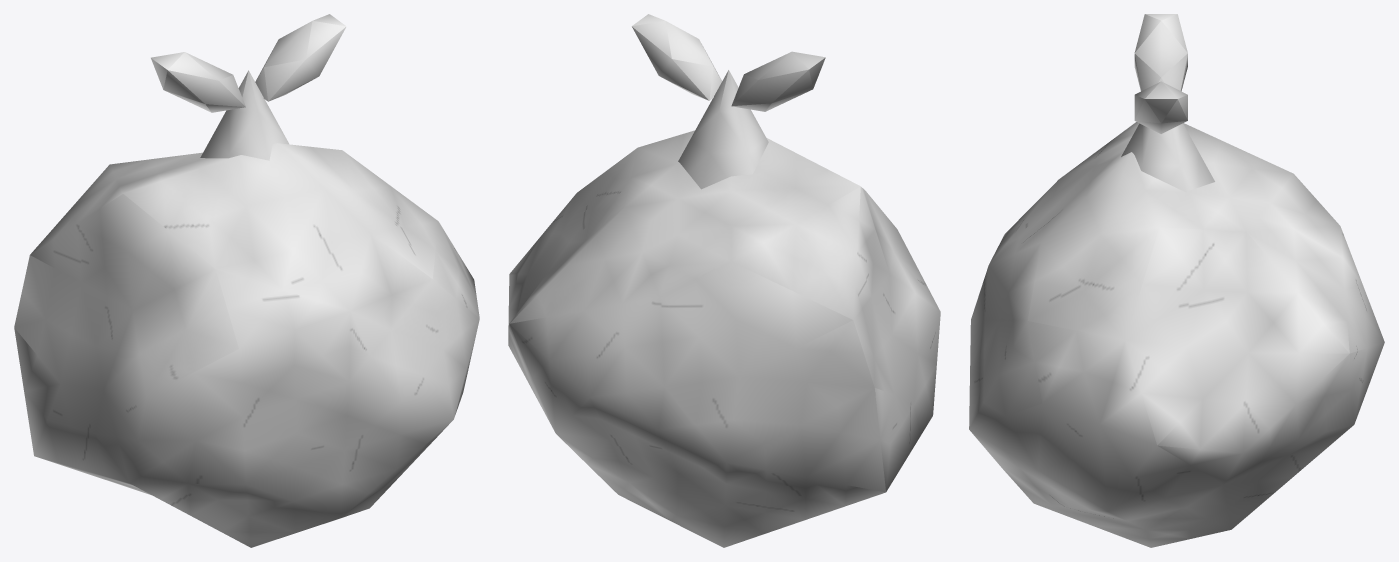
File: trash_bag.glb
3 renders of one model, left to right at view 1: azimuth 30°, elevation 25°; view 2: azimuth 150°, elevation 25°; view 3: azimuth 270°, elevation 25°, orthographic. The views are drawn at different scales.
Parts seen in each view (by area): view 1: trash_bag; view 2: trash_bag; view 3: trash_bag.
Boxes of the visible parts, x1,y1,x2,y2 form: trash_bag: [14, 14, 479, 547]; trash_bag: [508, 14, 940, 547]; trash_bag: [969, 14, 1384, 547].
Size of the model in its own units: 3.71 by 4.31 by 3.31.
Materials: 1 (1 with a texture image).
